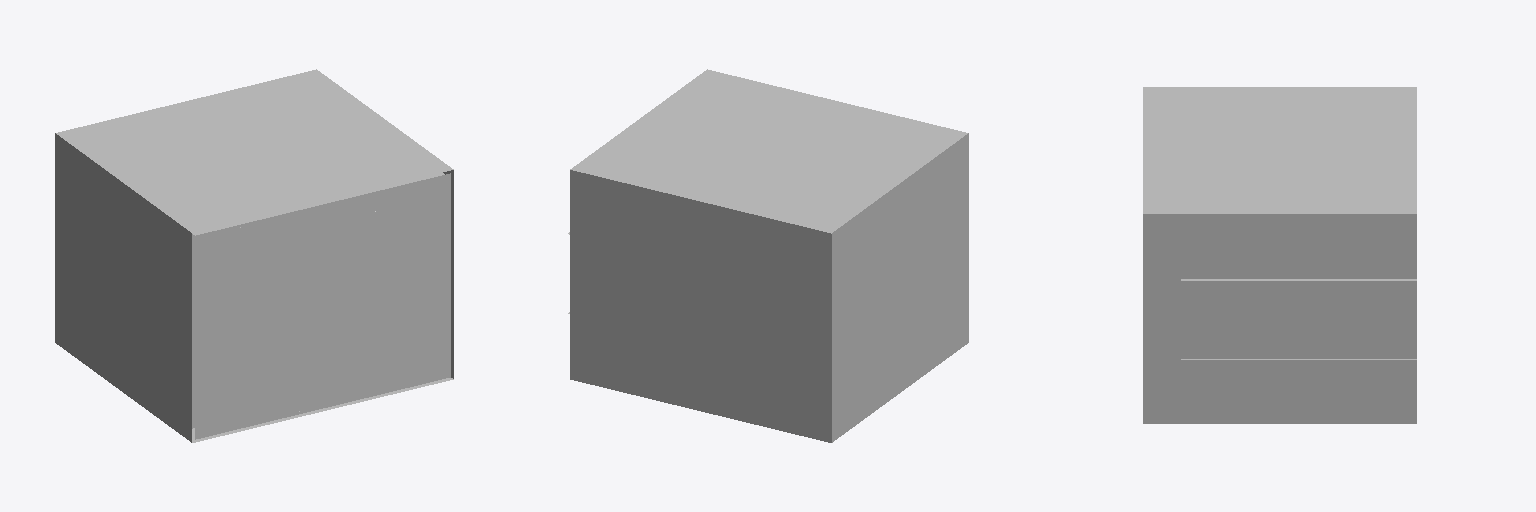
Rendered from env.obj.
The picture shows the model from 3 angles: view 1: azimuth 30°, elevation 25°; view 2: azimuth 150°, elevation 25°; view 3: azimuth 270°, elevation 25°; orthographic projection.
Parts seen in each view (by area): view 1: refPlafond, paroix1, paroiy0, caissonx1, caissony0, caissonx0, caissony1, fauxPlafondInf; view 2: dallage, paroix1, paroiy0, caissonx1, caissony0; view 3: paroiy1, paroix1, caissony1, caissonx1.
Part boxes in pixels (x1,y1,x2,y2): refPlafond: (195,173,450,439); paroix1: (56,69,439,223); paroiy0: (55,133,178,432); caissonx1: (180,160,453,233); caissony0: (179,224,191,442); caissonx0: (192,378,453,442); caissony1: (443,170,453,378); fauxPlafondInf: (192,234,194,427); dallage: (570,170,831,442); paroix1: (570,79,954,233); paroiy0: (832,144,954,442); caissonx1: (695,69,967,142); caissony0: (955,133,968,352); paroiy1: (1169,214,1416,423); paroix1: (1169,87,1416,213); caissony1: (1143,214,1168,423); caissonx1: (1143,87,1168,213).
Size of the model in its own units: 24.25 by 18.4 by 21.8.